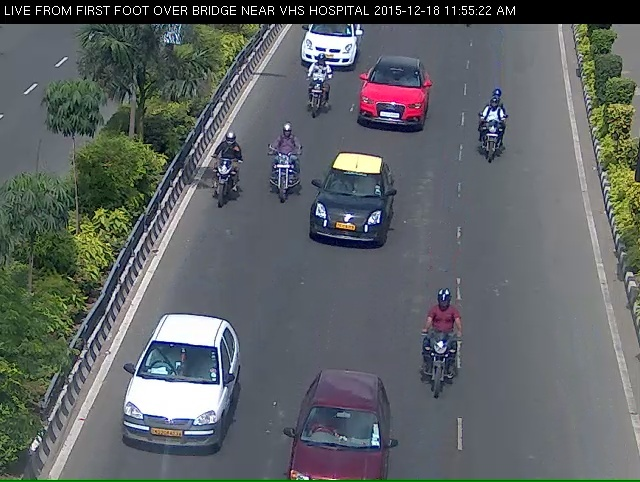Car: (110, 334, 217, 478), (289, 384, 390, 475), (301, 165, 395, 261), (354, 64, 432, 138), (291, 22, 370, 76)
Person: (409, 296, 479, 434), (475, 99, 516, 181), (259, 135, 297, 219), (202, 139, 234, 216), (296, 62, 325, 130)
